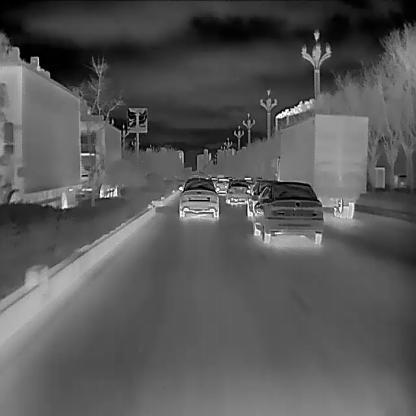car: (0, 60, 81, 208), (275, 113, 368, 218), (253, 180, 323, 244), (77, 111, 121, 199), (178, 179, 218, 222), (245, 179, 277, 216), (225, 178, 249, 205)
